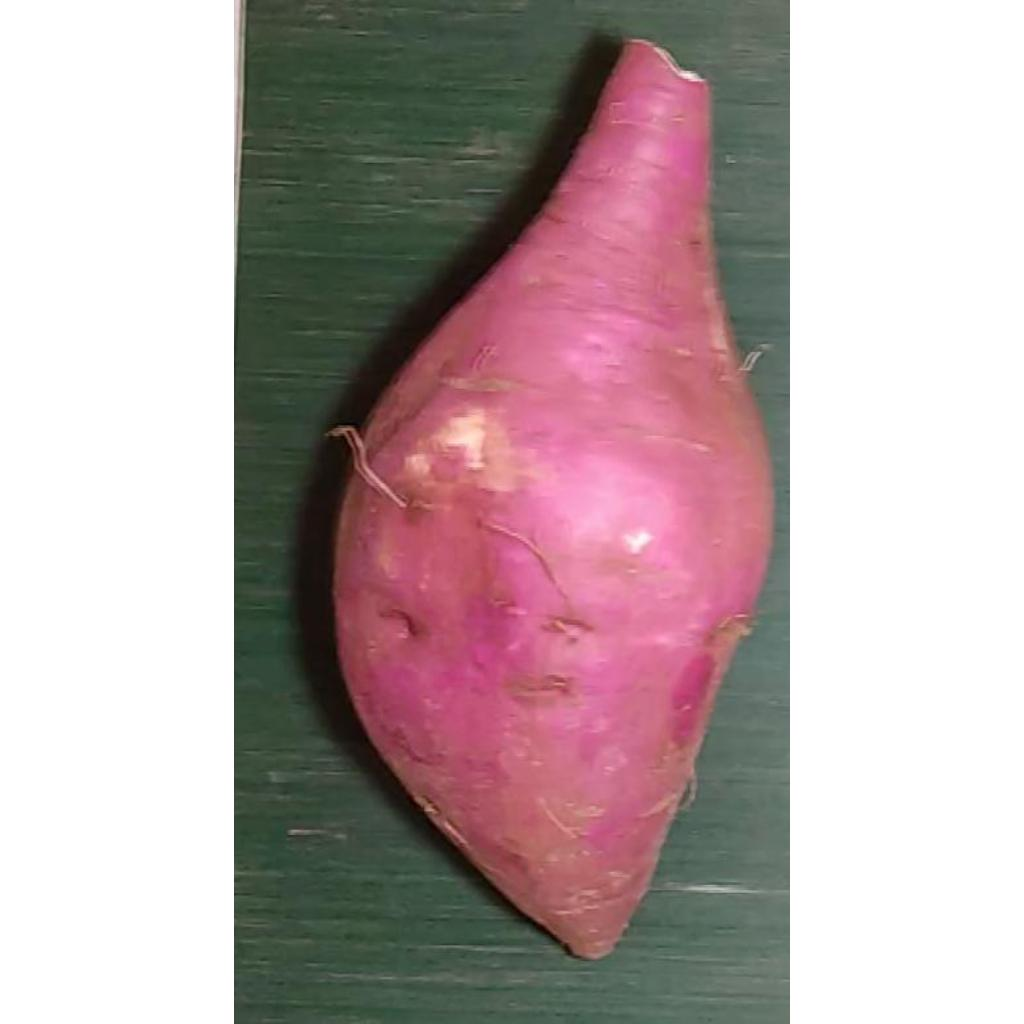Sweet Potato: (331, 39, 770, 964)
